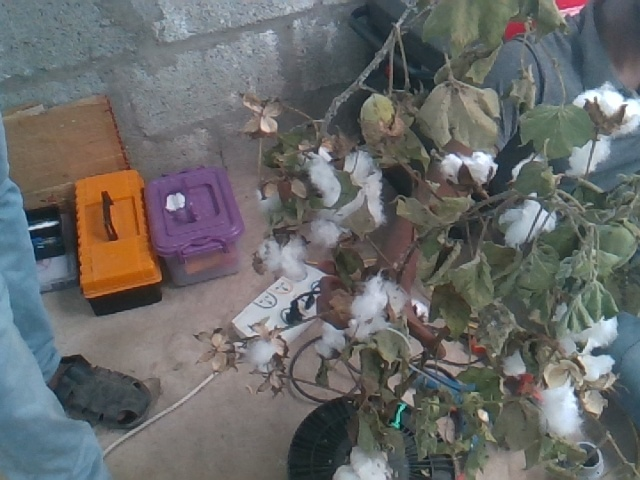cotton: (313, 152, 383, 248), (352, 277, 405, 333), (255, 235, 306, 281), (561, 311, 621, 350), (440, 148, 503, 185), (542, 383, 581, 437), (243, 339, 279, 366)
